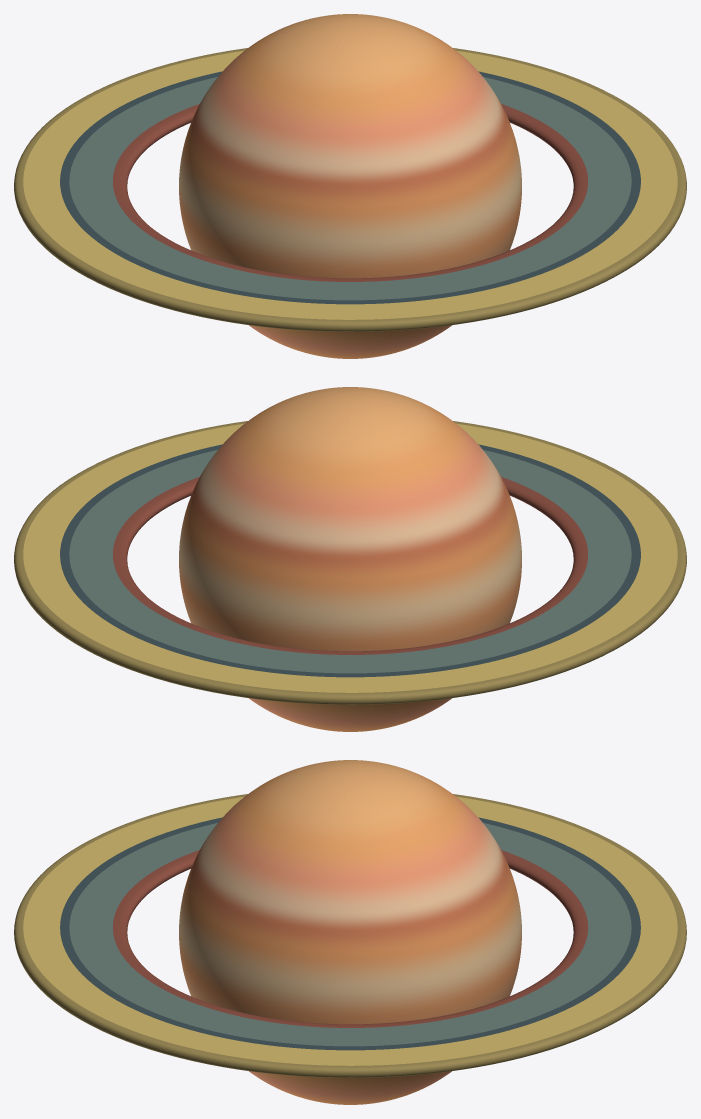
Rendered from Saturn 3.glb.
The picture shows the model from 3 angles, top to bottom: view 1: azimuth 30°, elevation 25°; view 2: azimuth 150°, elevation 25°; view 3: azimuth 270°, elevation 25°; orthographic projection.
Visible parts, largest first — view 1: Sphere, Circle; view 2: Sphere, Circle; view 3: Sphere, Circle.
Part boxes in pixels (bbox=[...]): Sphere: bbox=[179, 14, 521, 358]; Circle: bbox=[14, 48, 686, 331]; Sphere: bbox=[179, 387, 521, 731]; Circle: bbox=[14, 421, 686, 704]; Sphere: bbox=[179, 760, 521, 1104]; Circle: bbox=[14, 794, 686, 1077].
Size of the model in its own units: 6.2 by 3.19 by 6.2.
6 materials, 1 textured.
